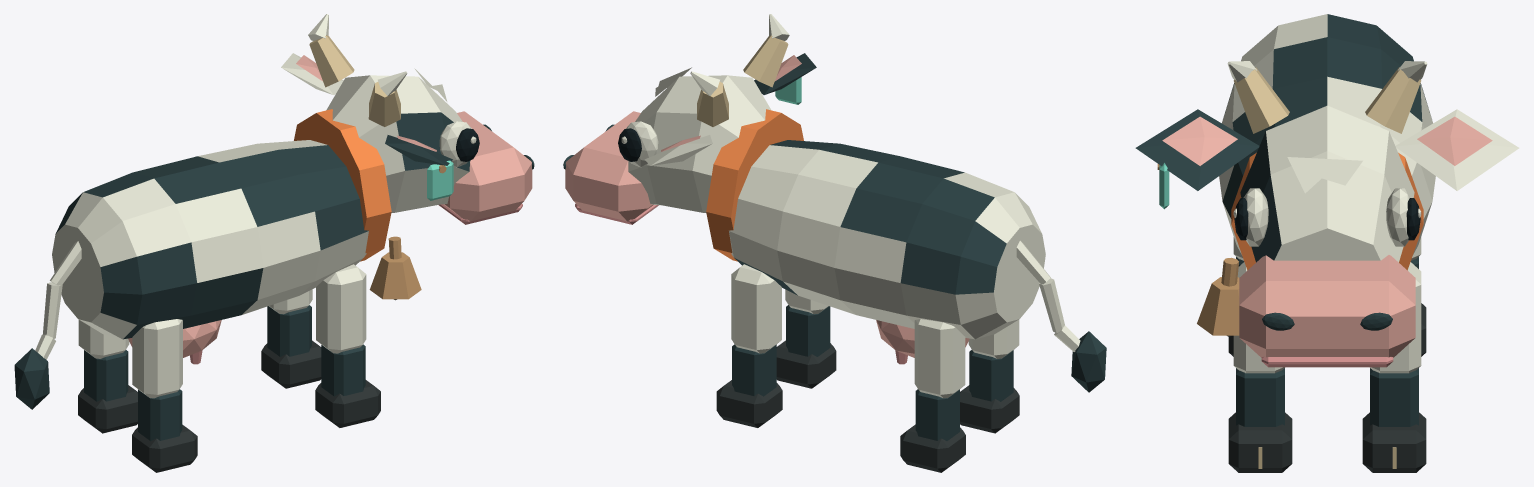
Rendered from meadow-01.glb.
The picture shows the model from 3 angles, left to right: view 1: azimuth 30°, elevation 25°; view 2: azimuth 150°, elevation 25°; view 3: azimuth 270°, elevation 25°; orthographic projection. The views are drawn at different scales.
Parts seen in each view (by area): view 1: Body • faceted patchwork, Head • broad cheeks, Muzzle • rose nose, Collar • orange woven band, Leg front near • upper, Leg rear near • upper, Hoof front near, Hoof rear near, Leg front near • sock, Leg rear far • sock, Leg rear near • sock, Leg front far • sock (+16 smaller); view 2: Body • faceted patchwork, Head • broad cheeks, Muzzle • rose nose, Collar • orange woven band, Leg front far • upper, Leg rear far • upper, Hoof front far, Hoof rear far, Leg front far • sock, Leg rear far • sock, Leg rear near • sock, Leg front near • sock (+13 smaller); view 3: Head • broad cheeks, Body • faceted patchwork, Muzzle • rose nose, Ear 1 • faceted outer, Ear -1 • faceted outer, Hoof front far, Hoof front near, Leg front far • sock, Leg front near • sock, Horn -1 • base, Horn 1 • base, Ear -1 • rose inner (+17 smaller).
Boxes of the visible parts, box(x1,y1,x2,y2) form: Body • faceted patchwork: box(52, 140, 368, 339); Head • broad cheeks: box(326, 75, 470, 212); Muzzle • rose nose: box(443, 111, 532, 221); Collar • orange woven band: box(294, 109, 391, 261); Leg front near • upper: box(316, 264, 366, 353); Leg rear near • upper: box(132, 319, 182, 398); Hoof front near: box(315, 380, 380, 427); Hoof rear near: box(132, 424, 197, 472); Leg front near • sock: box(321, 344, 365, 396); Leg rear far • sock: box(84, 350, 128, 401); Leg rear near • sock: box(138, 389, 182, 441); Leg front far • sock: box(267, 305, 311, 356); Body • faceted patchwork: box(729, 140, 1045, 339); Head • broad cheeks: box(628, 75, 770, 212); Muzzle • rose nose: box(565, 111, 653, 221); Collar • orange woven band: box(706, 109, 803, 261); Leg front far • upper: box(731, 264, 781, 353); Leg rear far • upper: box(914, 319, 965, 398); Hoof front far: box(716, 380, 782, 427); Hoof rear far: box(900, 424, 965, 472); Leg front far • sock: box(732, 344, 776, 396); Leg rear far • sock: box(915, 389, 959, 440); Leg rear near • sock: box(969, 350, 1013, 401); Leg front near • sock: box(786, 305, 830, 356); Head • broad cheeks: box(1240, 105, 1414, 262); Body • faceted patchwork: box(1219, 14, 1435, 254); Muzzle • rose nose: box(1239, 255, 1415, 357); Ear 1 • faceted outer: box(1395, 109, 1519, 190); Ear -1 • faceted outer: box(1135, 109, 1259, 190); Hoof front far: box(1362, 412, 1426, 472); Hoof front near: box(1228, 412, 1292, 472); Leg front far • sock: box(1370, 368, 1418, 426); Leg front near • sock: box(1236, 368, 1284, 426); Horn -1 • base: box(1233, 67, 1289, 133); Horn 1 • base: box(1365, 67, 1421, 133); Ear -1 • rose inner: box(1162, 116, 1237, 165).
Bounding box in the file's own units: 3.25 × 2.12 × 1.72.
